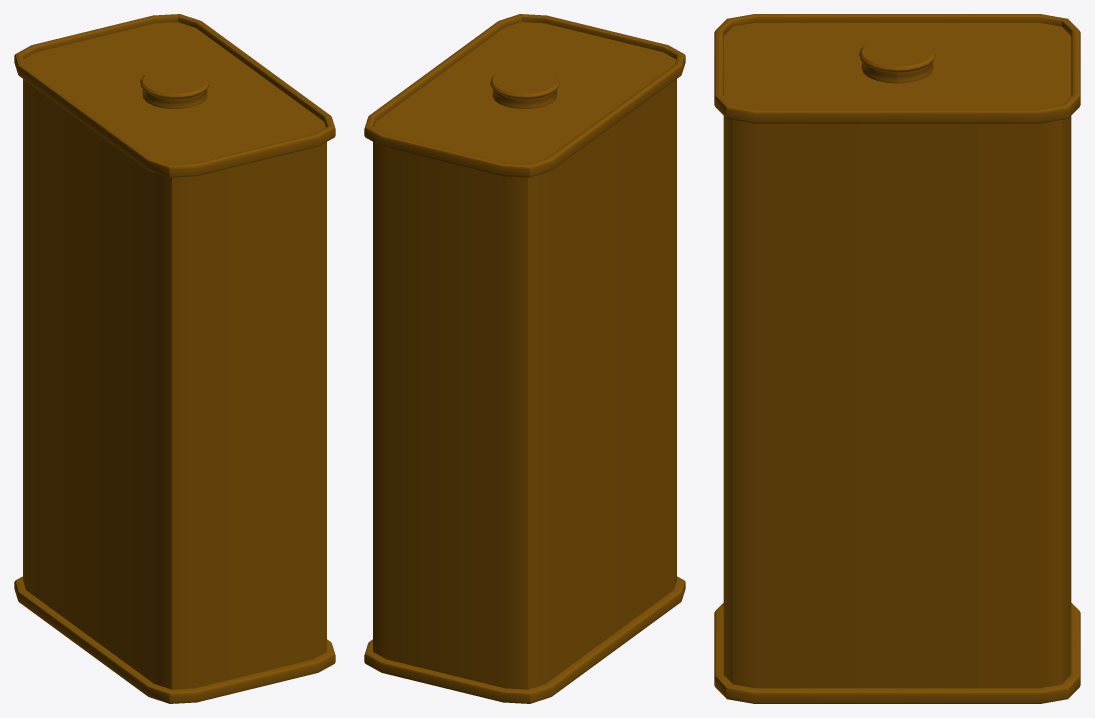
File: test_oil.fbx
The picture shows the model from 3 angles, left to right: view 1: azimuth 30°, elevation 25°; view 2: azimuth 150°, elevation 25°; view 3: azimuth 270°, elevation 25°; orthographic projection. The views are drawn at different scales.
Parts seen in each view (by area): view 1: pCube4; view 2: pCube4; view 3: pCube4.
Part boxes in pixels (box(x1,y1,x2,y2)): pCube4: box(14, 14, 335, 703); pCube4: box(364, 14, 685, 703); pCube4: box(714, 14, 1080, 703).
Bounding box in the file's own units: 1.28 × 3.63 × 1.99.
